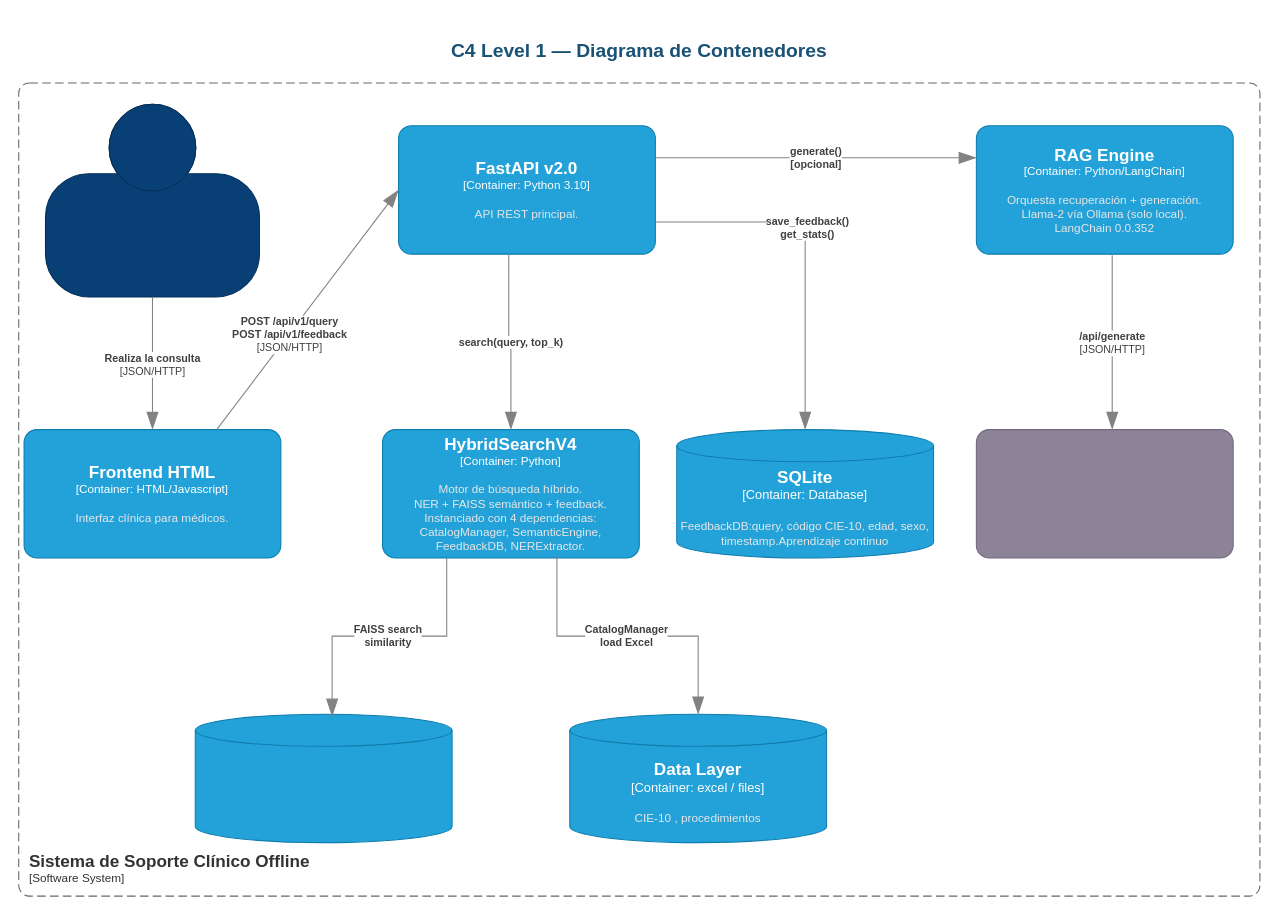
This 1279x915 diagram has some shape labels left out. The shapes that lost their labels are listed below. From the top down, each one's centre as x and y in pixels, then its label:
the point at 151,200: Médico [Person] Médico o enfermera en clínica rural MINSA
the point at 1104,493: Ollama [Software System] Llama-2 7B 4-bit localhost:11434
the point at 323,778: FAISS Index [Container: BD] 14,702 vectores CIE-10 768 dimensiones
